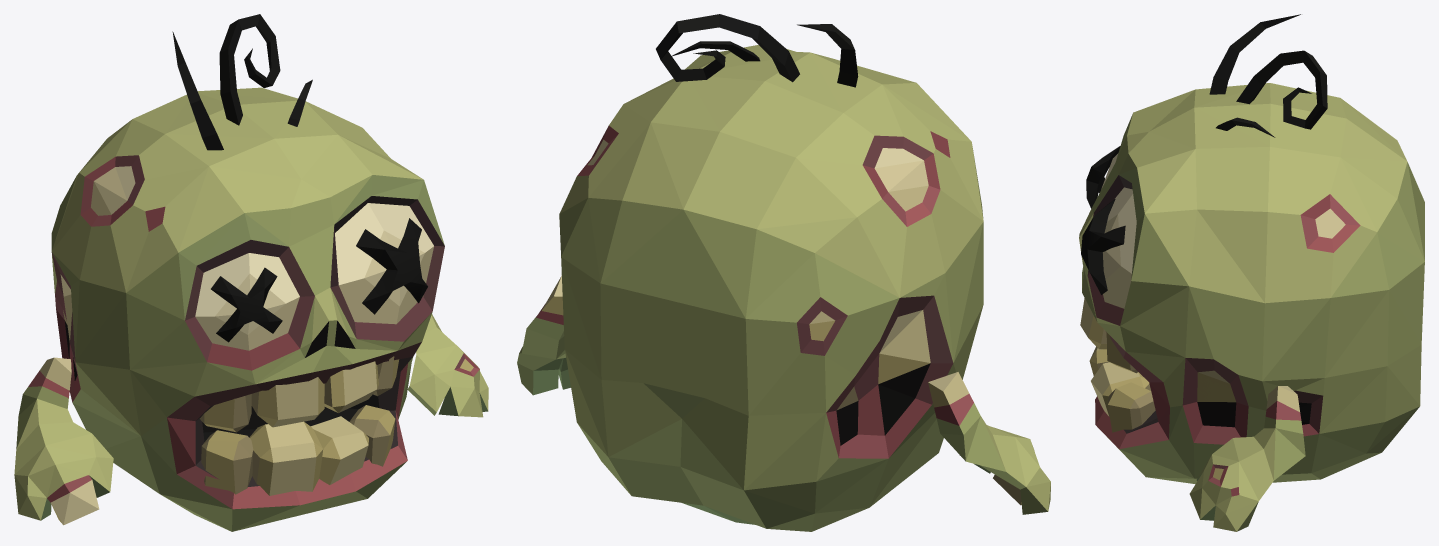
Rendered from micro_zombie_brian_dead.obj.
3 views of the same model, side by side, from view 1: azimuth 30°, elevation 25°; view 2: azimuth 150°, elevation 25°; view 3: azimuth 270°, elevation 25° (orthographic). The views are drawn at different scales.
Parts seen in each view (by area): view 1: brian_mesh_dead; view 2: brian_mesh_dead; view 3: brian_mesh_dead.
Boxes of the visible parts, x1,y1,x2,y2 form: brian_mesh_dead: (14,14,488,531); brian_mesh_dead: (517,14,1050,531); brian_mesh_dead: (1079,14,1424,531).
Bounding box in the file's own units: 153 × 142 × 104.
